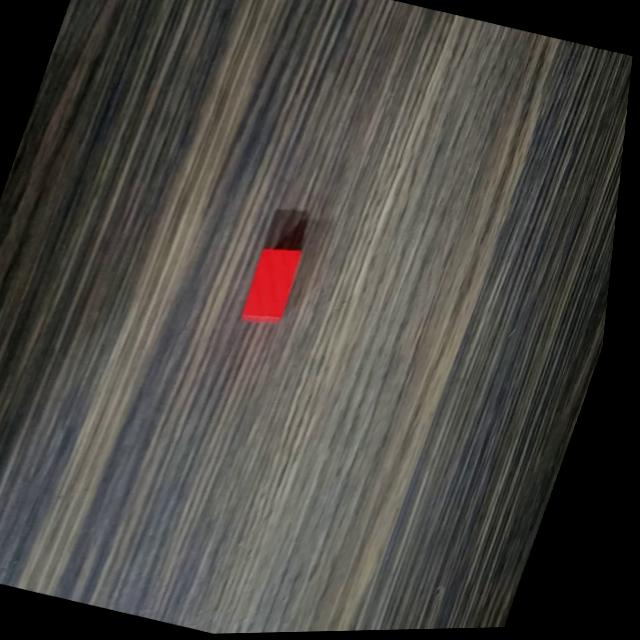cube: (240, 236, 315, 334)
